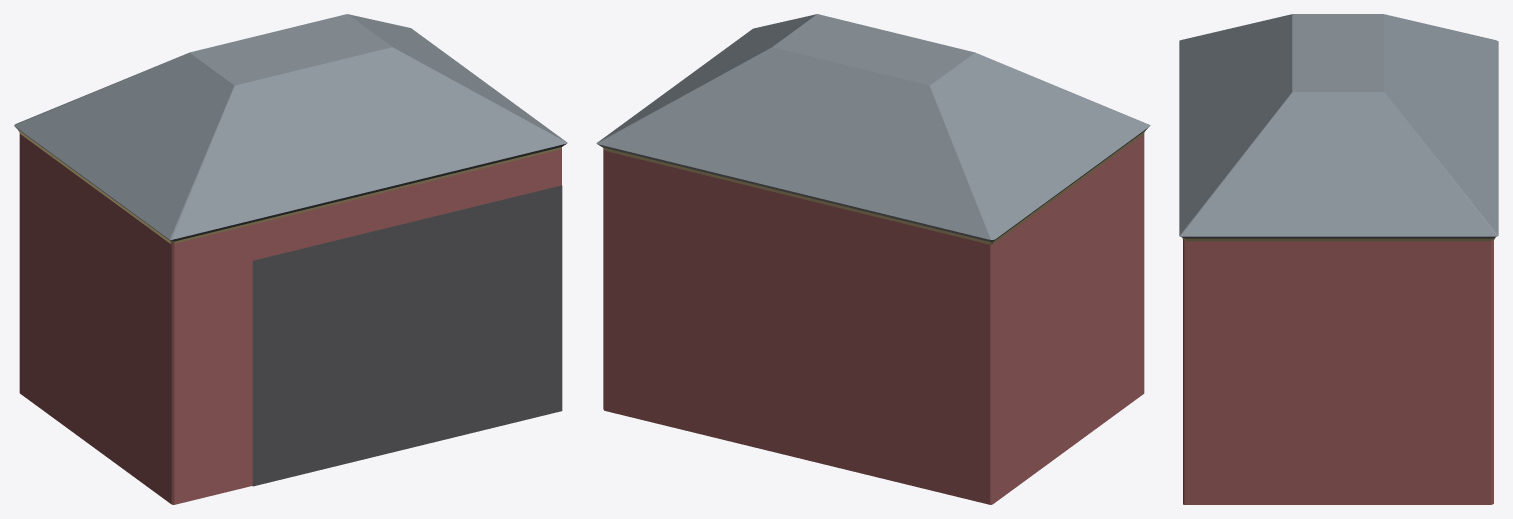
Rendered from loin.glb.
The picture shows the model from 3 angles, left to right: view 1: azimuth 30°, elevation 25°; view 2: azimuth 150°, elevation 25°; view 3: azimuth 270°, elevation 25°; orthographic projection.
Visible parts, largest first — view 1: loin; view 2: loin; view 3: loin.
Boxes of the visible parts, left/top/right/bottom form: loin: left=14, top=14, right=567, bottom=504; loin: left=596, top=14, right=1150, bottom=504; loin: left=1179, top=14, right=1498, bottom=504.
Size of the model in its own units: 0.975 by 0.8239 by 0.6697.
